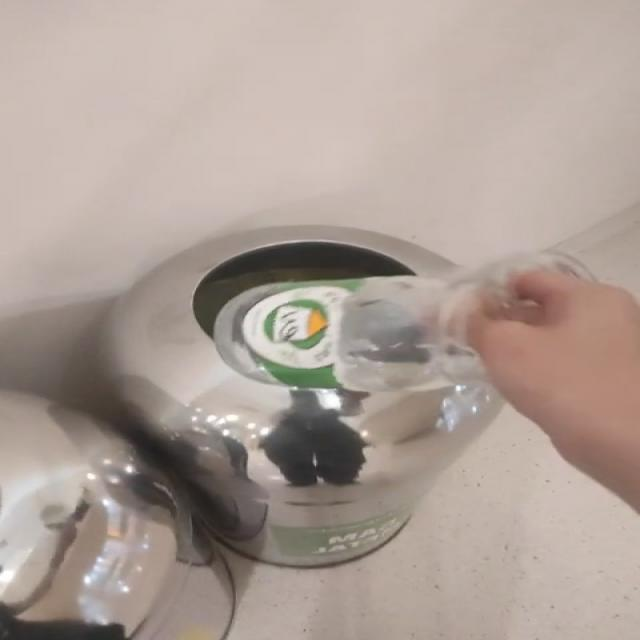glass: (213, 253, 587, 392)
